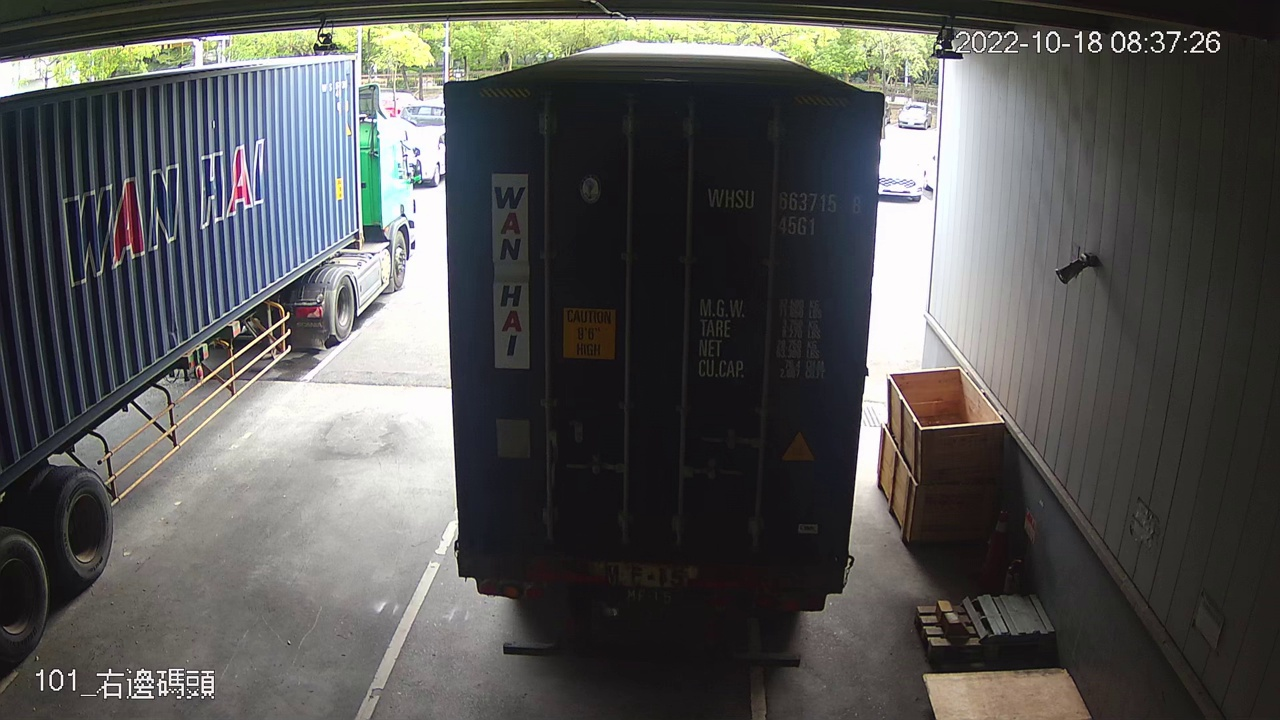container: (701, 180, 868, 242)
